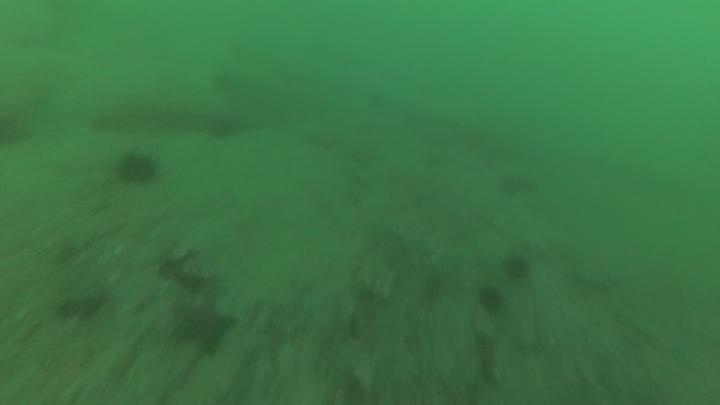echinus: (115, 149, 161, 187), (0, 109, 33, 150), (496, 171, 540, 199), (500, 251, 534, 282), (475, 283, 506, 316), (205, 114, 240, 143), (207, 68, 238, 98)
starfish: (169, 294, 238, 356)
